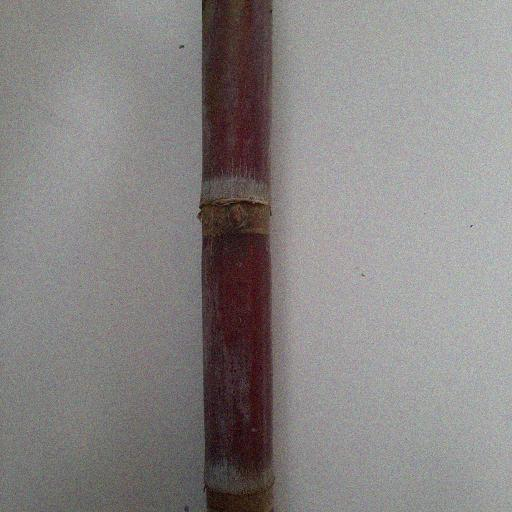Bud: (228, 204, 249, 231)
